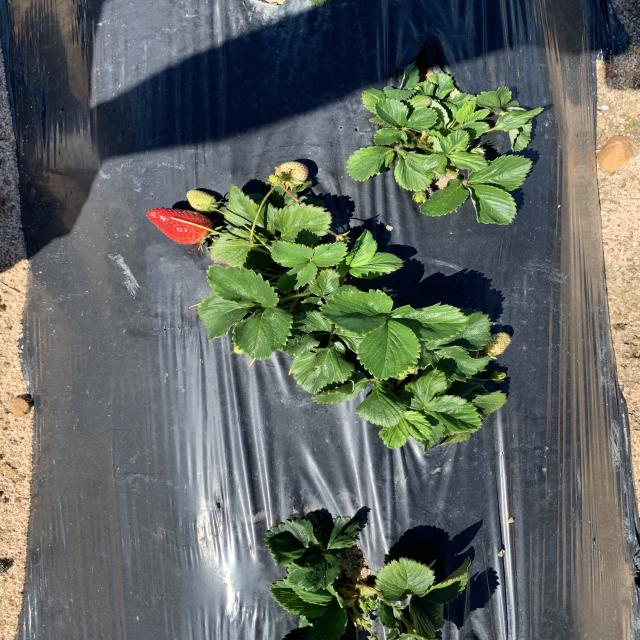unripe: (145, 206, 213, 244)
